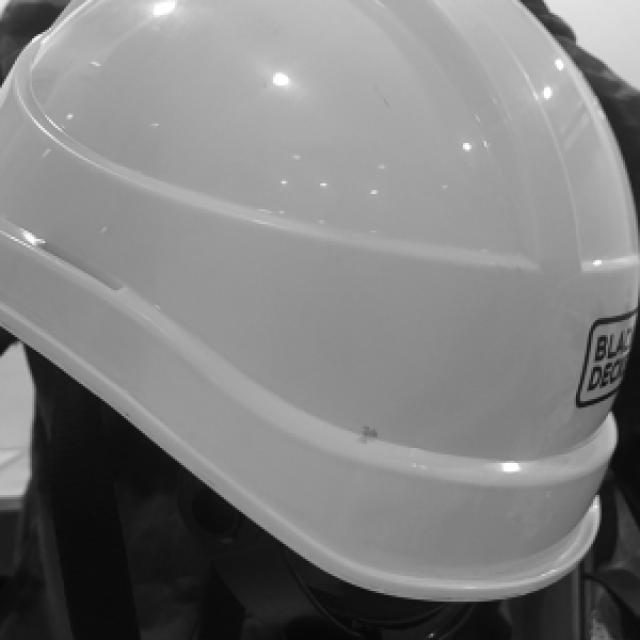safety_helmet: (0, 2, 640, 604)
